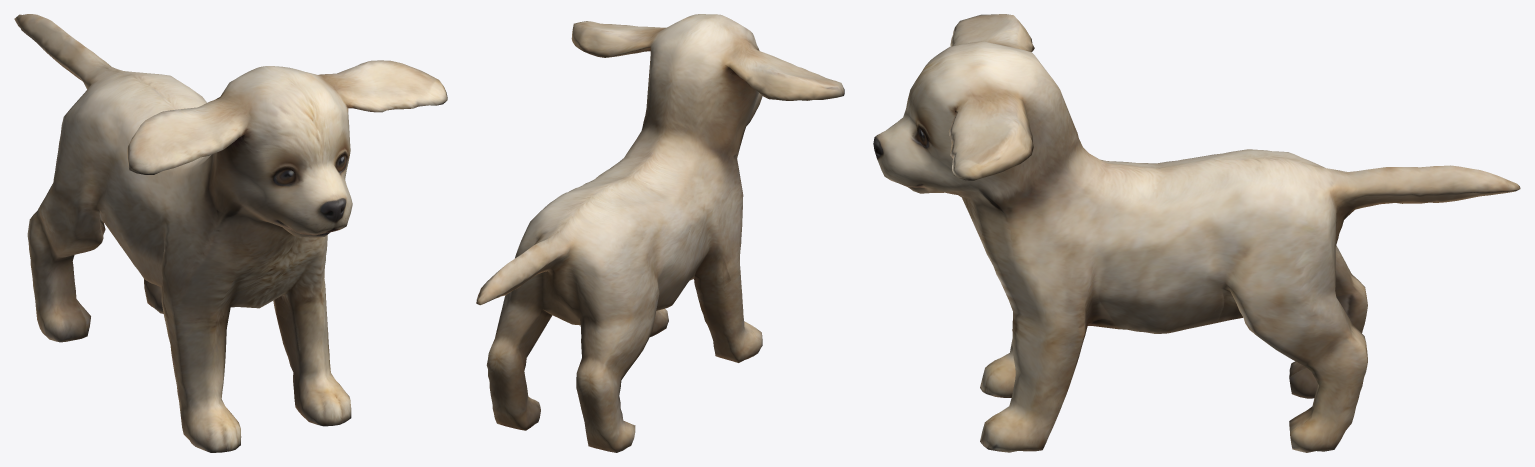
Rendered from puppy_texture.obj.
3 views of the same model, side by side, from view 1: azimuth 30°, elevation 25°; view 2: azimuth 150°, elevation 25°; view 3: azimuth 270°, elevation 25° (orthographic). The views are drawn at different scales.
Parts seen in each view (by area): view 1: puppy_texture; view 2: puppy_texture; view 3: puppy_texture.
Part boxes in pixels (x1,y1,x2,y2): puppy_texture: (14, 14, 447, 452); puppy_texture: (476, 14, 844, 452); puppy_texture: (873, 14, 1520, 452).
Size of the model in its own units: 1.14 by 1.26 by 2.
Materials: 1 (1 with a texture image).
